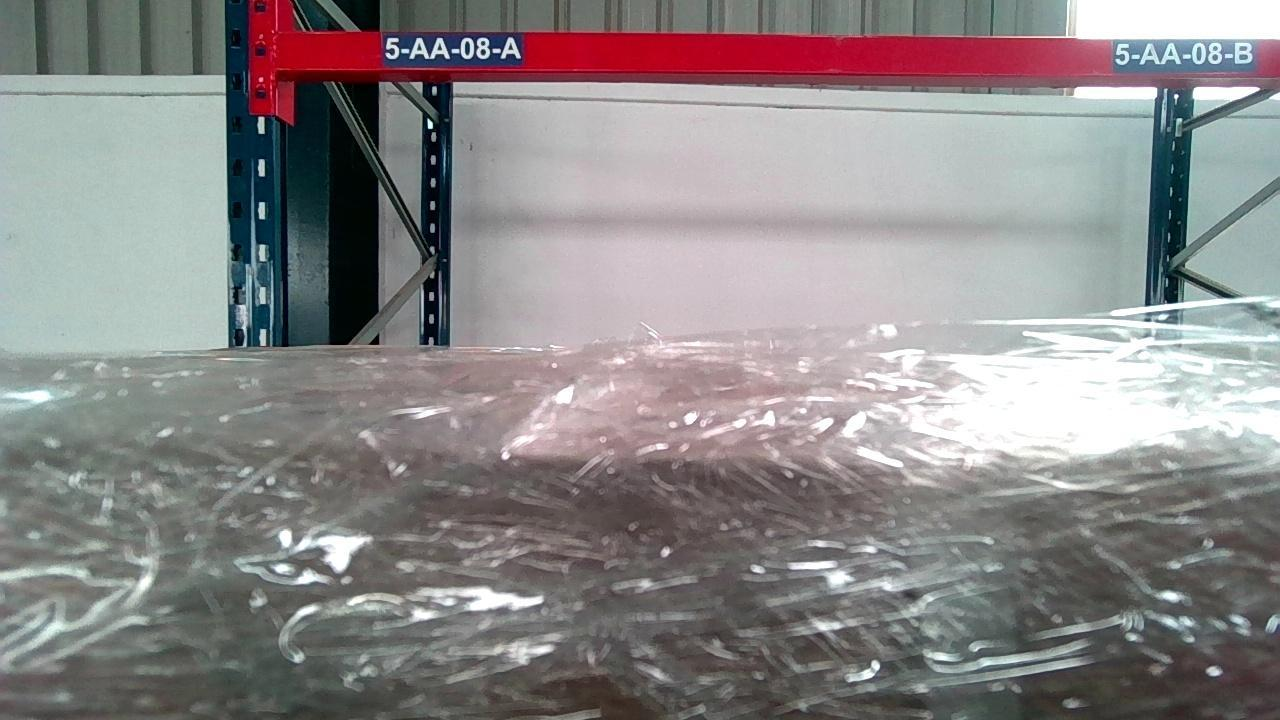h_rack: (276, 23, 1280, 73)
